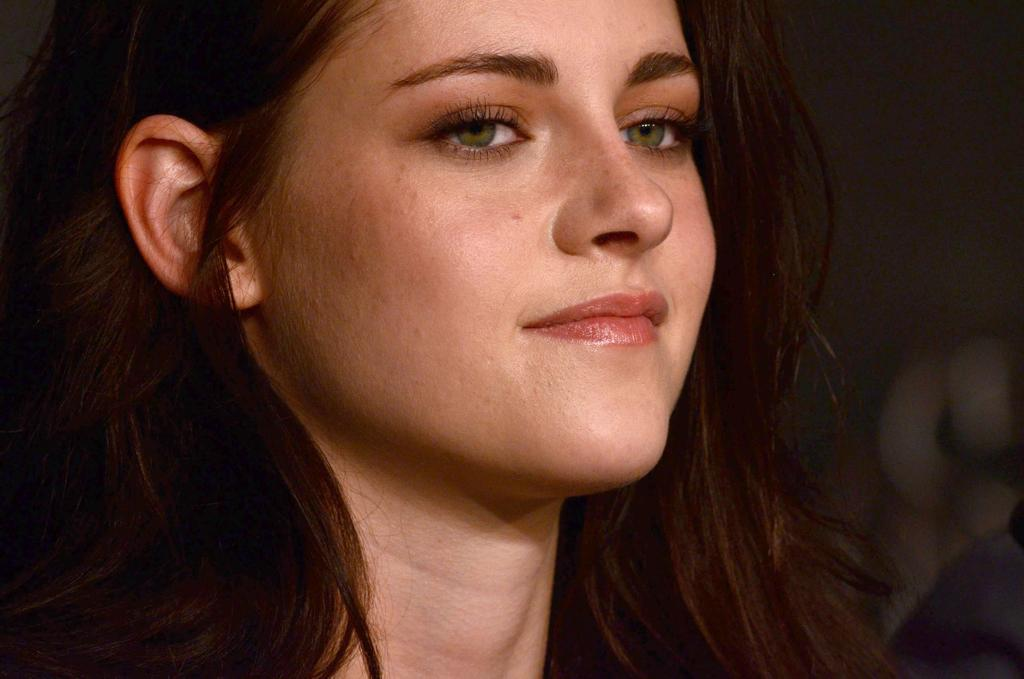face: (263, 7, 717, 485)
